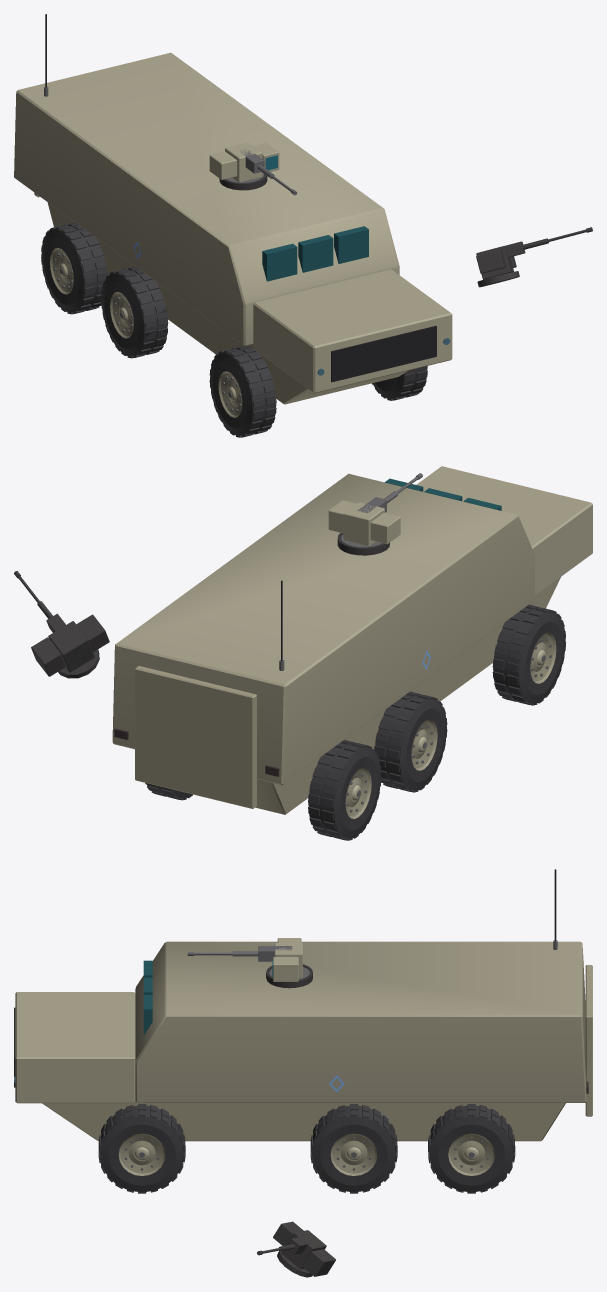
The model's file is apc__griffon.glb.
The picture shows the model from 3 angles, top to bottom: view 1: azimuth 30°, elevation 25°; view 2: azimuth 150°, elevation 25°; view 3: azimuth 270°, elevation 25°; orthographic projection. The views are drawn at different scales.
Parts seen in each view (by area): view 1: Hull_Mesh, Wheel_L2_Mesh, Wheel_L1_Mesh, Wheel_L0_Mesh, Wreck, Turret_Mesh, Wheel_R2_Mesh; view 2: Hull_Mesh, Wheel_L0_Mesh, Wheel_L2_Mesh, Wheel_L1_Mesh, Wreck, Turret_Mesh; view 3: Hull_Mesh, Wheel_R2_Mesh, Wheel_R0_Mesh, Wheel_R1_Mesh, Wreck, Turret_Mesh, Gun_Mesh.
Part boxes in pixels (box(x1,y1,x2,y2)): Hull_Mesh: box(14, 14, 452, 404); Wheel_L2_Mesh: box(209, 345, 276, 437); Wheel_L1_Mesh: box(101, 266, 168, 358); Wheel_L0_Mesh: box(41, 222, 107, 314); Wreck: box(58, 174, 592, 435); Turret_Mesh: box(209, 142, 279, 182); Wheel_R2_Mesh: box(372, 366, 427, 400); Hull_Mesh: box(112, 466, 592, 814); Wheel_L0_Mesh: box(308, 740, 381, 840); Wheel_L2_Mesh: box(492, 604, 565, 705); Wheel_L1_Mesh: box(374, 691, 447, 792); Wreck: box(14, 533, 541, 837); Turret_Mesh: box(328, 500, 400, 547); Hull_Mesh: box(14, 869, 592, 1141); Wheel_R2_Mesh: box(98, 1104, 185, 1193); Wheel_R0_Mesh: box(428, 1104, 515, 1193); Wheel_R1_Mesh: box(310, 1104, 397, 1193); Wreck: box(115, 964, 487, 1277); Turret_Mesh: box(269, 938, 309, 981); Gun_Mesh: box(187, 946, 292, 961).
Size of what is drawn, in the model's own units: 6.38 by 3.73 by 7.73.
